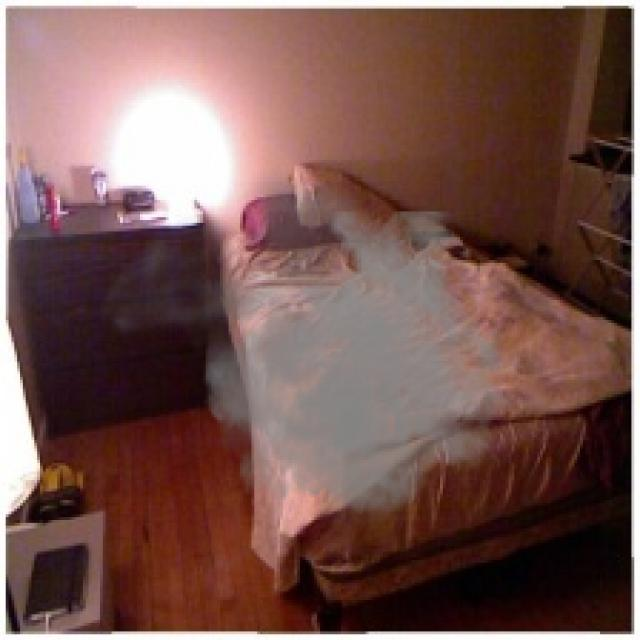smoke: (94, 166, 514, 540)
